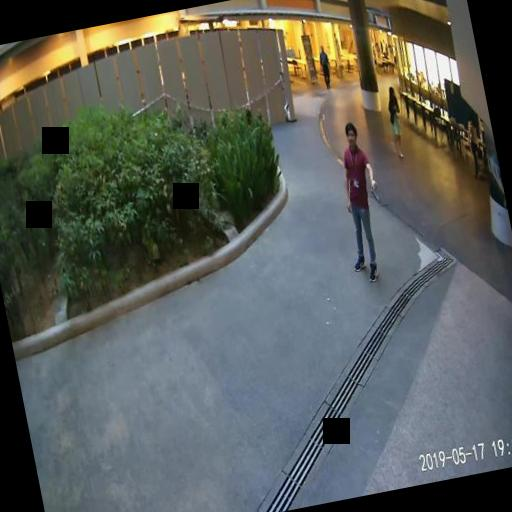Handgun: (368, 181, 379, 202)
